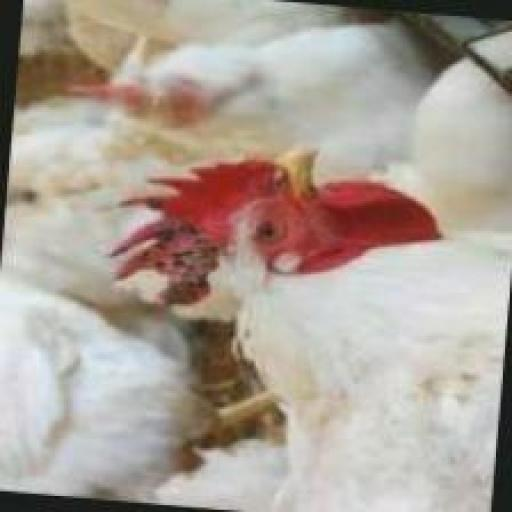disease: (110, 182, 225, 317)
